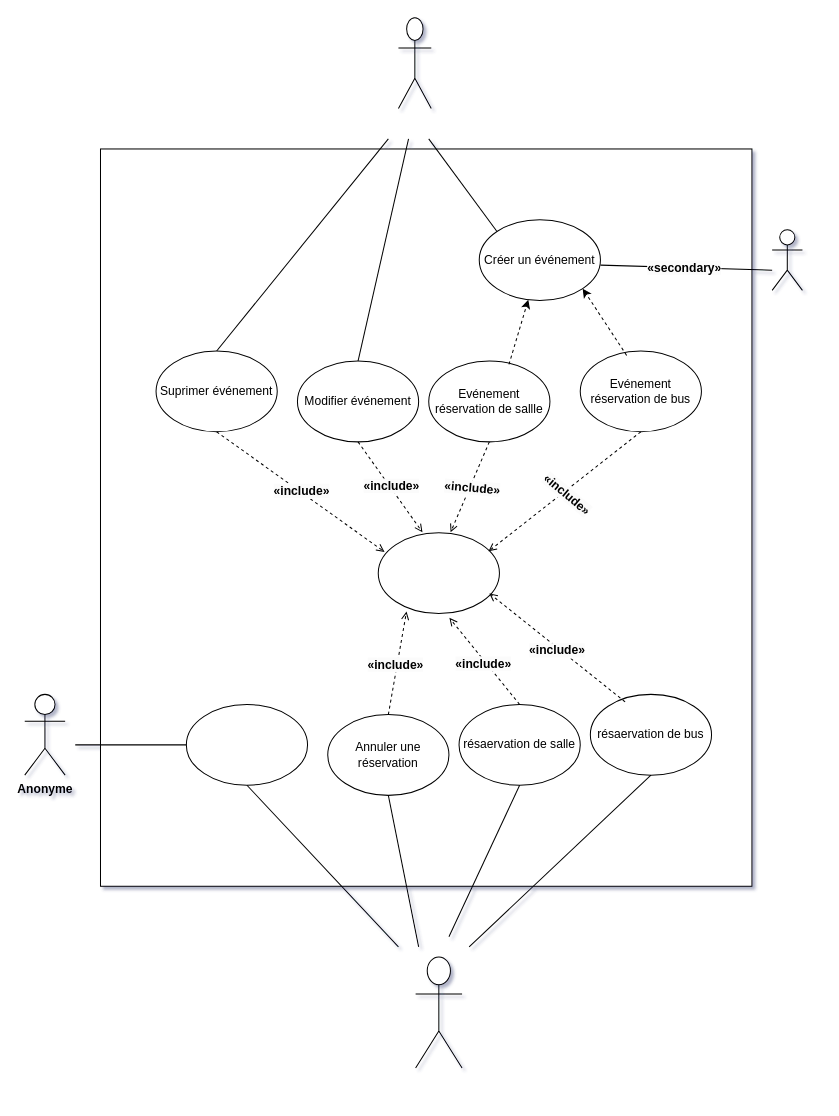
The diagram is 839 pixels wide and 1116 high, and some of its shapes have lost their labels. The shapes that lost their labels are listed below. From the top down, each one's centre as x and y in pixels, then its label:
At (x=414, y=63): "Administrateur".
At (x=786, y=259): "Gmail API".
At (x=438, y=573): "Se connecter".
At (x=246, y=744): "Consulter les événement".
At (x=438, y=1012): "Consommateur".
